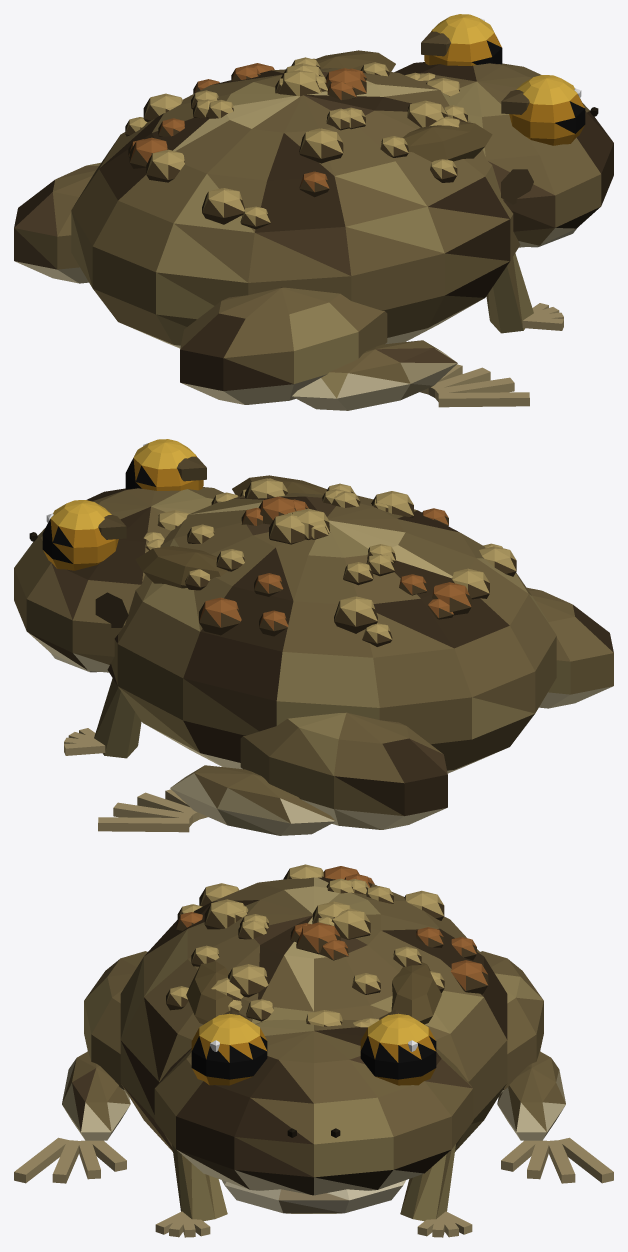
The model's file is creatures-toad.glb.
3 renders of one model, top to bottom at view 1: azimuth 30°, elevation 25°; view 2: azimuth 150°, elevation 25°; view 3: azimuth 270°, elevation 25°, orthographic.
Bounding box in the file's own units: 2.14 × 1.06 × 2.2.
